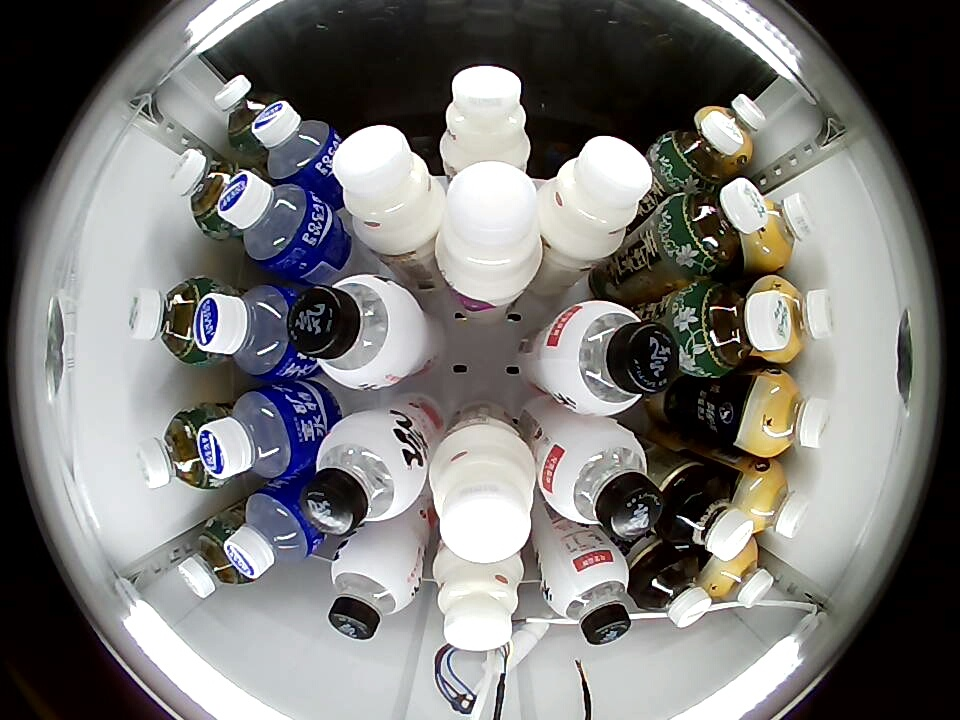asamu: (750, 276, 837, 363), (750, 369, 833, 456), (749, 190, 815, 267), (743, 465, 811, 539), (707, 543, 775, 609), (707, 93, 768, 163)
baokuangli: (217, 171, 326, 274), (197, 386, 309, 484), (193, 282, 299, 380), (224, 484, 323, 579), (252, 102, 340, 186)
moliqingcha: (677, 279, 786, 378), (664, 177, 767, 276), (126, 275, 216, 364), (654, 111, 743, 192), (135, 406, 219, 491), (168, 148, 248, 235), (177, 523, 251, 598), (213, 74, 285, 149)
wulongcha: (668, 477, 754, 561), (637, 556, 711, 629)
yingyangkuaixian: (434, 163, 542, 305), (535, 136, 652, 262), (428, 427, 536, 562), (332, 125, 445, 252), (432, 545, 526, 650), (439, 66, 532, 172)
yuanqishui: (287, 275, 425, 391), (541, 300, 677, 417), (302, 412, 427, 536), (538, 419, 663, 540), (327, 537, 423, 641), (541, 546, 633, 646)
